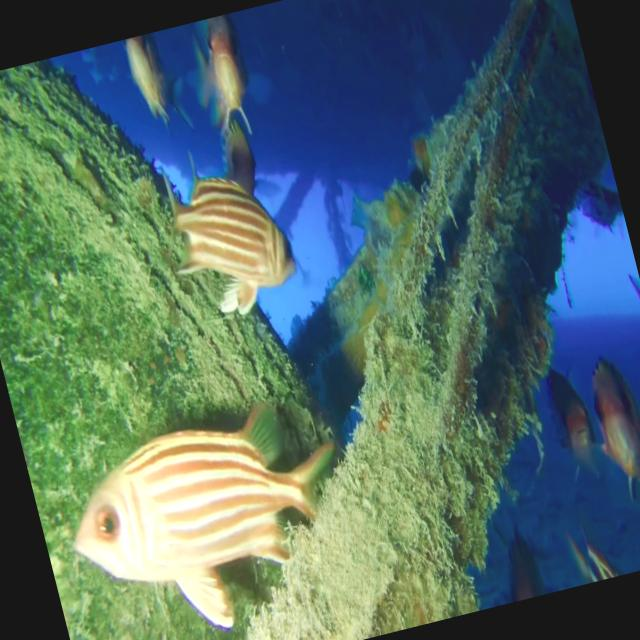Asker Baligi: (48, 383, 372, 640), (146, 130, 306, 330)
